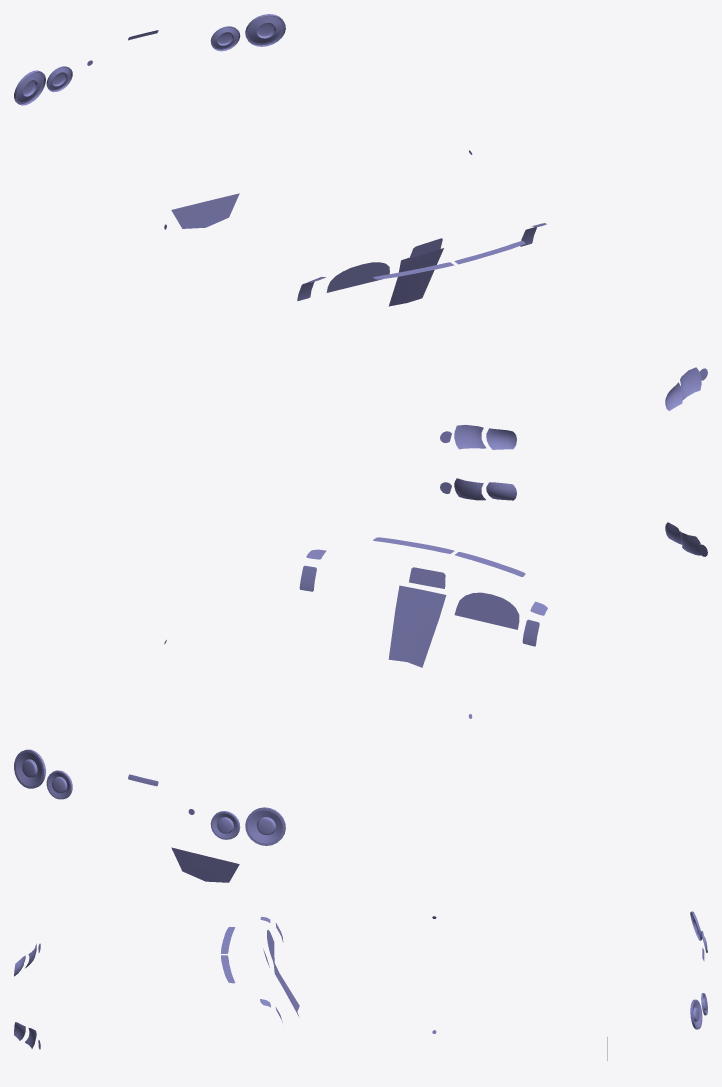
The model's file is R34_Chassis_Detail.fbx.
3 views of the same model, one above another, from view 1: azimuth 30°, elevation 25°; view 2: azimuth 150°, elevation 25°; view 3: azimuth 270°, elevation 25° (orthographic). The views are drawn at different scales.
Parts seen in each view (by area): view 1: R34_Chassis_Detail; view 2: R34_Chassis_Detail; view 3: R34_Chassis_Detail.
Boxes of the visible parts, bbox=[...] form: R34_Chassis_Detail: bbox=[14, 14, 707, 449]; R34_Chassis_Detail: bbox=[14, 478, 707, 882]; R34_Chassis_Detail: bbox=[14, 911, 707, 1060].
Bounding box in the file's own units: 171 × 79.39 × 435.
